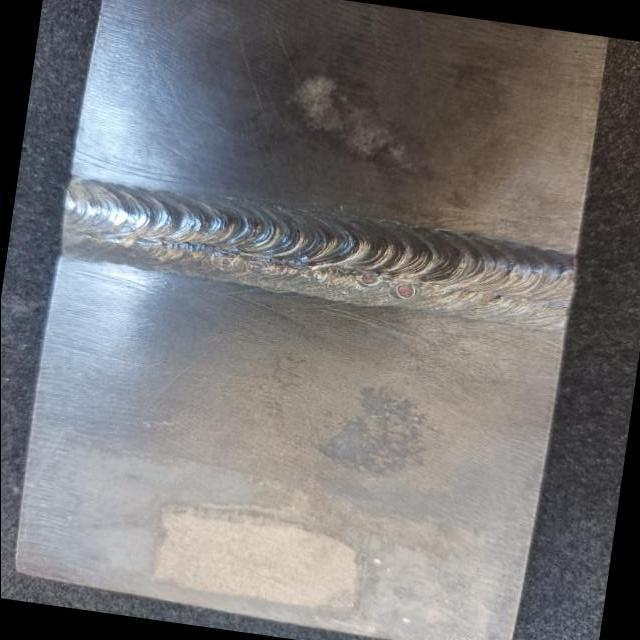defect: (391, 281, 422, 302), (354, 267, 383, 286), (248, 257, 273, 276), (213, 250, 238, 268), (492, 291, 507, 304)
